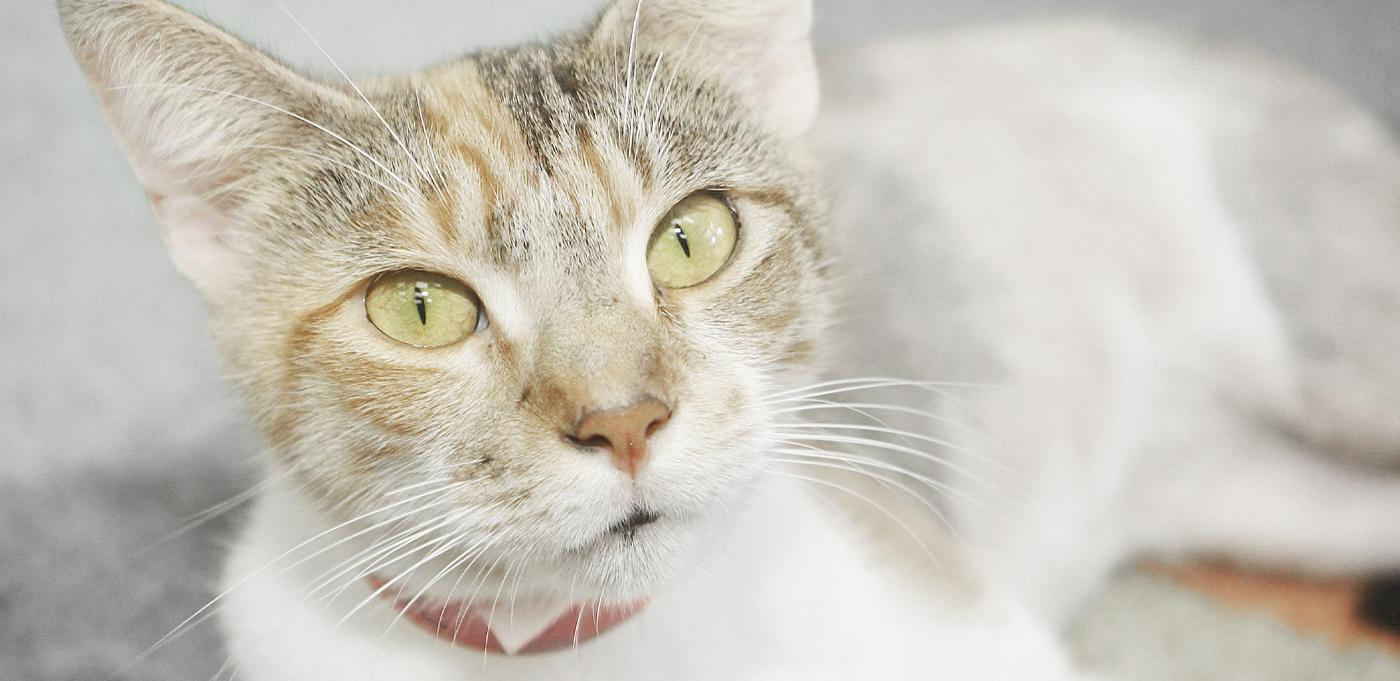Cat: (145, 1, 875, 593)
